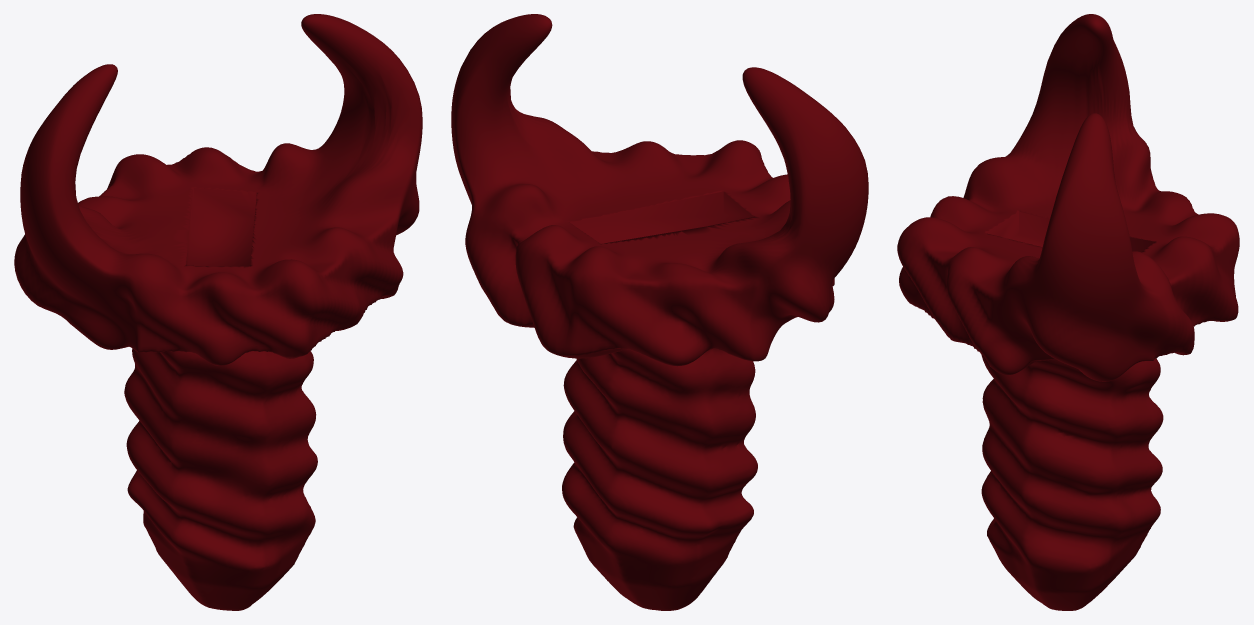
File: screw.fbx
3 renders of one model, left to right at view 1: azimuth 30°, elevation 25°; view 2: azimuth 150°, elevation 25°; view 3: azimuth 270°, elevation 25°, orthographic. The views are drawn at different scales.
Parts seen in each view (by area): view 1: Circle; view 2: Circle; view 3: Circle.
Part boxes in pixels (x1,y1,x2,y2): Circle: (14,14,422,610); Circle: (451,14,868,610); Circle: (897,14,1239,610).
Bounding box in the file's own units: 265 × 361 × 210.
